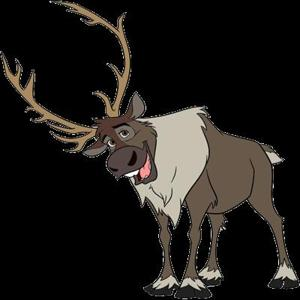sven: (9, 7, 299, 290)
